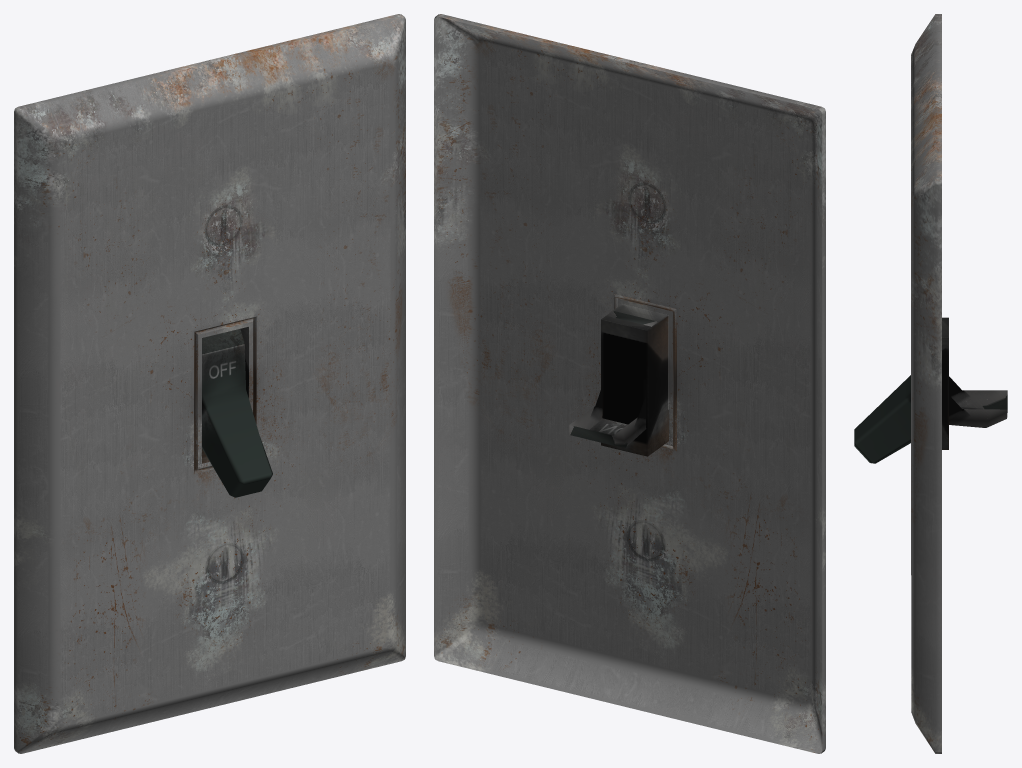
File: light_switch_metal.glb
The picture shows the model from 3 angles, left to right: view 1: azimuth 30°, elevation 25°; view 2: azimuth 150°, elevation 25°; view 3: azimuth 270°, elevation 25°; orthographic projection. The views are drawn at different scales.
Parts seen in each view (by area): view 1: light_switch_metal_plate, light_switch_metal_lever; view 2: light_switch_metal_plate, light_switch_metal_lever; view 3: light_switch_metal_plate, light_switch_metal_lever.
Boxes of the visible parts, x1,y1,x2,y2 form: light_switch_metal_plate: (14,14,405,753); light_switch_metal_lever: (202,329,272,497); light_switch_metal_plate: (434,14,825,753); light_switch_metal_lever: (569,310,657,447); light_switch_metal_plate: (911,14,948,753); light_switch_metal_lever: (854,375,1007,463).
Size of the model in its own units: 0.1371 by 0.2174 by 0.0527.
Materials: 1 (1 with a texture image).
